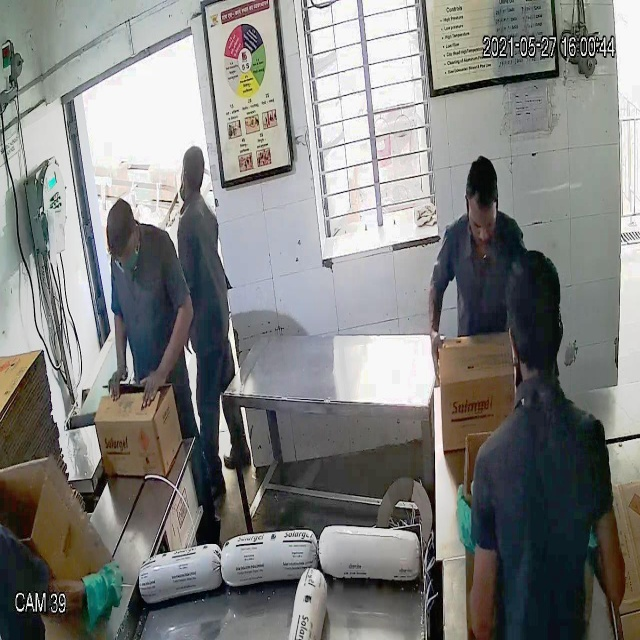Sin_gafas: (464, 205, 498, 236)
